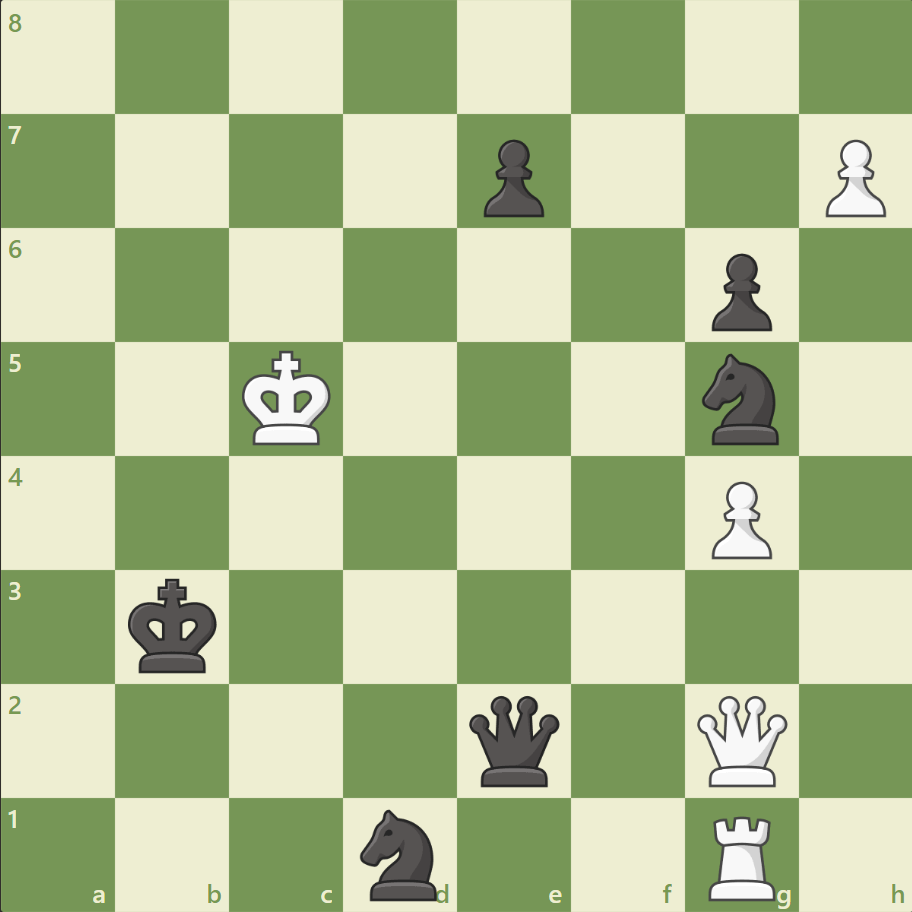K: (238, 344, 338, 452)
P: (701, 473, 776, 564), (815, 132, 889, 223)
Q: (691, 690, 790, 789)
R: (700, 806, 783, 904)
k: (124, 571, 224, 679)
n: (351, 802, 449, 904), (692, 348, 789, 450)
p: (474, 132, 549, 223), (701, 246, 776, 337)
q: (464, 690, 563, 789)
